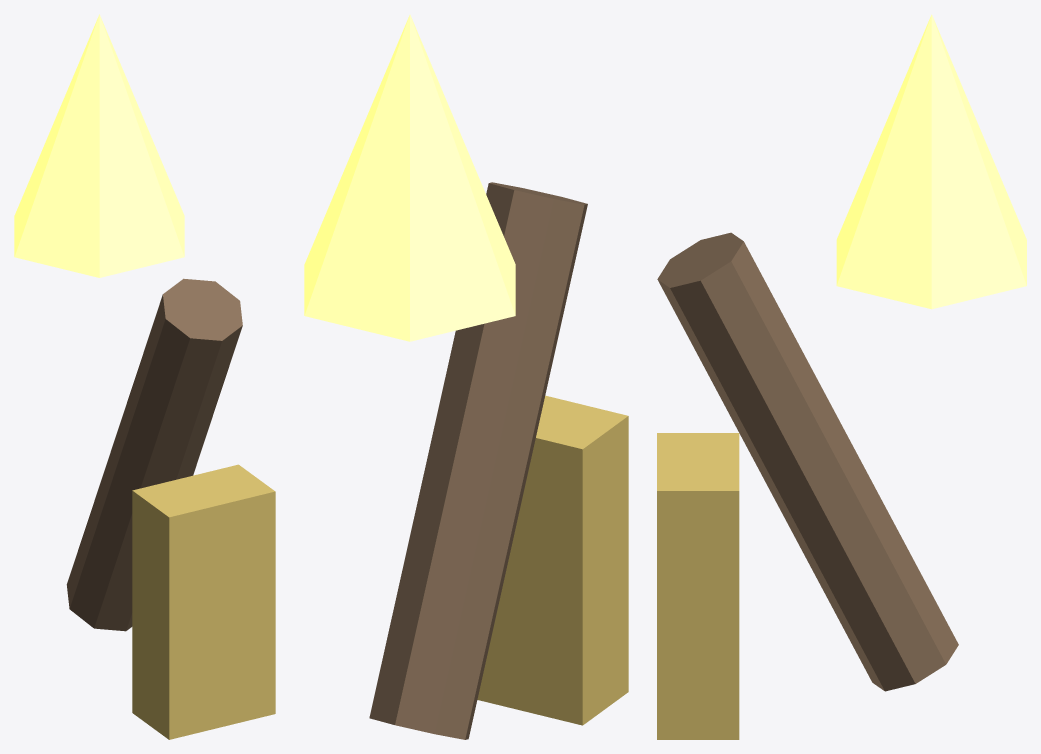
Rendered from torch_sconce.glb.
The picture shows the model from 3 angles, left to right: view 1: azimuth 30°, elevation 25°; view 2: azimuth 150°, elevation 25°; view 3: azimuth 270°, elevation 25°; orthographic projection. The views are drawn at different scales.
Visible parts, largest first — view 1: torch_sconce_00, torch_sconce_02, torch_sconce_01; view 2: torch_sconce_01, torch_sconce_02, torch_sconce_00; view 3: torch_sconce_01, torch_sconce_02, torch_sconce_00.
Part boxes in pixels (x1=…): torch_sconce_00: x1=132, y1=464, x2=275, y2=739; torch_sconce_02: x1=14, y1=14, x2=184, y2=277; torch_sconce_01: x1=66, y1=278, x2=242, y2=631; torch_sconce_01: x1=369, y1=182, x2=587, y2=739; torch_sconce_02: x1=304, y1=14, x2=515, y2=341; torch_sconce_00: x1=477, y1=395, x2=628, y2=725; torch_sconce_01: x1=657, y1=232, x2=958, y2=691; torch_sconce_02: x1=836, y1=14, x2=1026, y2=309; torch_sconce_00: x1=657, y1=433, x2=739, y2=739.
Bounding box in the file's own units: 0.16 × 0.56 × 0.2693.
